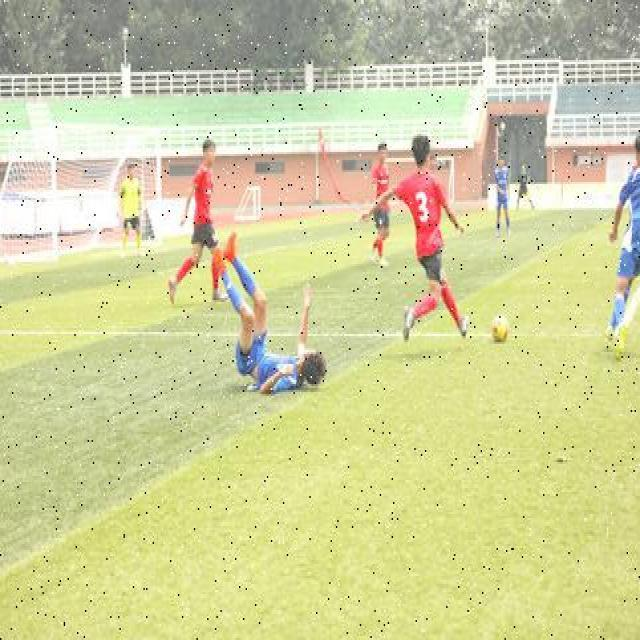fall: (210, 240, 324, 392)
